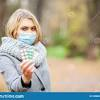mask: (11, 12, 40, 49)
